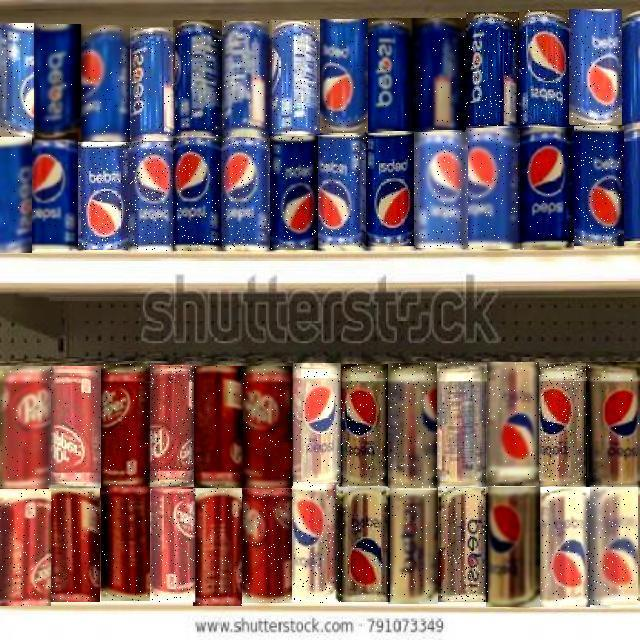Drinks: (586, 362, 640, 487), (520, 128, 574, 250), (486, 362, 539, 486), (466, 128, 520, 249), (486, 487, 540, 607), (436, 362, 487, 487), (414, 132, 468, 248), (538, 487, 590, 607), (50, 366, 101, 488), (0, 367, 51, 489), (518, 10, 571, 127), (569, 9, 622, 125), (388, 363, 437, 488), (466, 12, 519, 126), (574, 126, 624, 246), (338, 487, 390, 602), (538, 365, 587, 487), (243, 366, 292, 488), (194, 366, 243, 488), (101, 365, 150, 487), (0, 489, 51, 606), (49, 486, 100, 602), (79, 25, 130, 141), (340, 365, 388, 487), (293, 364, 341, 486), (414, 18, 466, 130), (366, 134, 416, 250), (193, 488, 242, 606), (438, 487, 488, 602), (590, 486, 638, 605), (388, 490, 438, 604), (222, 22, 272, 136), (101, 485, 150, 601), (173, 21, 222, 137), (292, 486, 340, 604), (243, 489, 292, 603), (271, 20, 320, 134), (33, 25, 81, 141), (149, 365, 194, 487), (318, 136, 366, 250), (270, 136, 318, 250), (320, 19, 368, 133), (368, 18, 416, 131), (173, 138, 221, 251), (78, 142, 128, 250), (222, 138, 270, 250), (33, 133, 79, 249), (130, 27, 175, 141), (150, 489, 195, 602), (128, 142, 174, 252), (0, 23, 34, 139), (0, 137, 32, 253)
